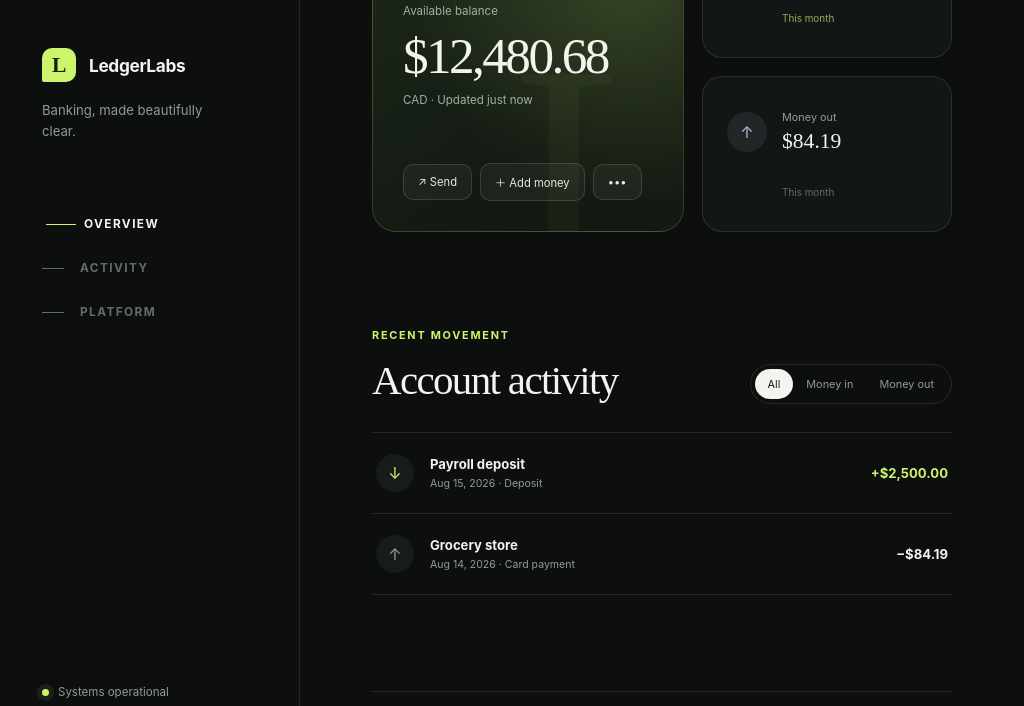
Test case: LedgerLabs dashboard › filters the visible activity without another request
The width and height of the screenshot is (1024, 706).
(page scrolled)
Expected: the text "Grocery store" is shown, [430,537,518,553]
Click the button "Money in". click: x=830, y=384
box: [793,369,866,399]
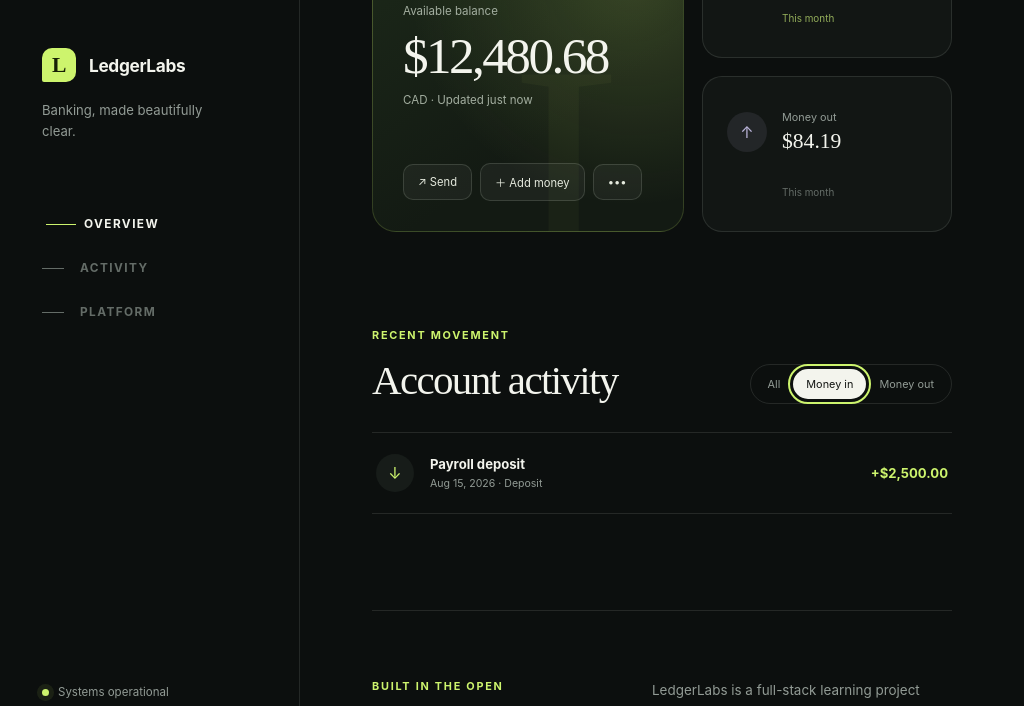
Expected: the text "Payroll deposit" is shown, [430,456,525,472]
Expected: the text "Grocery store" is gone
